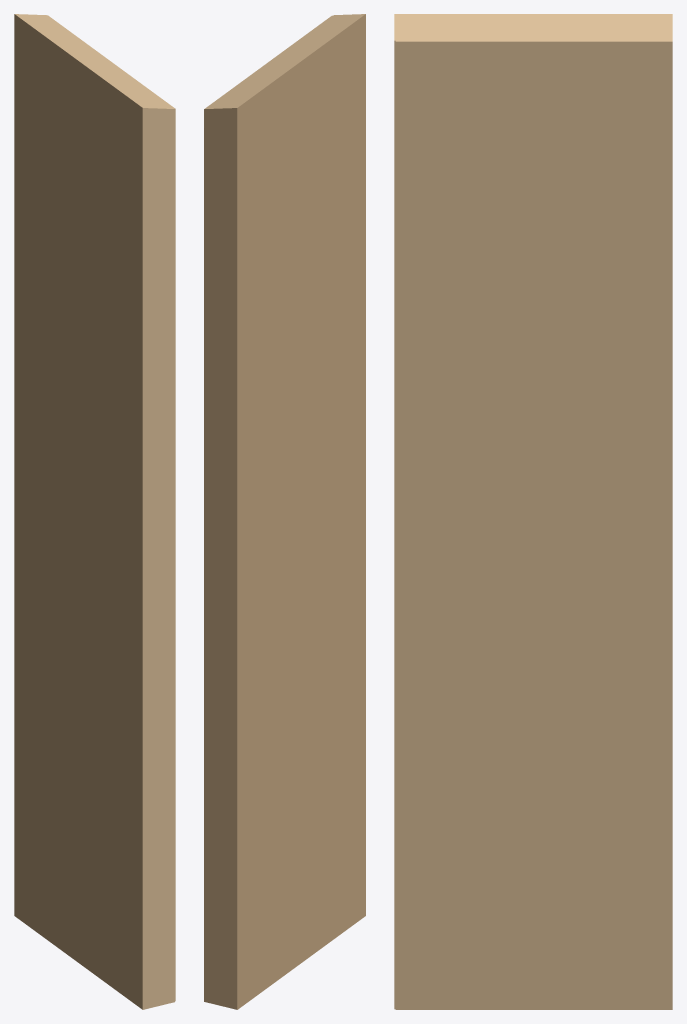
File: wall-house-tex.fbx
3 renders of one model, left to right at view 1: azimuth 30°, elevation 25°; view 2: azimuth 150°, elevation 25°; view 3: azimuth 270°, elevation 25°, orthographic. The views are drawn at different scales.
Parts seen in each view (by area): view 1: wall; view 2: wall; view 3: wall.
Boxes of the visible parts, x1,y1,x2,y2 form: wall: (14, 14, 175, 1009); wall: (204, 14, 365, 1009); wall: (394, 14, 672, 1009).
Bounding box in the file's own units: 15 × 388 × 100.
